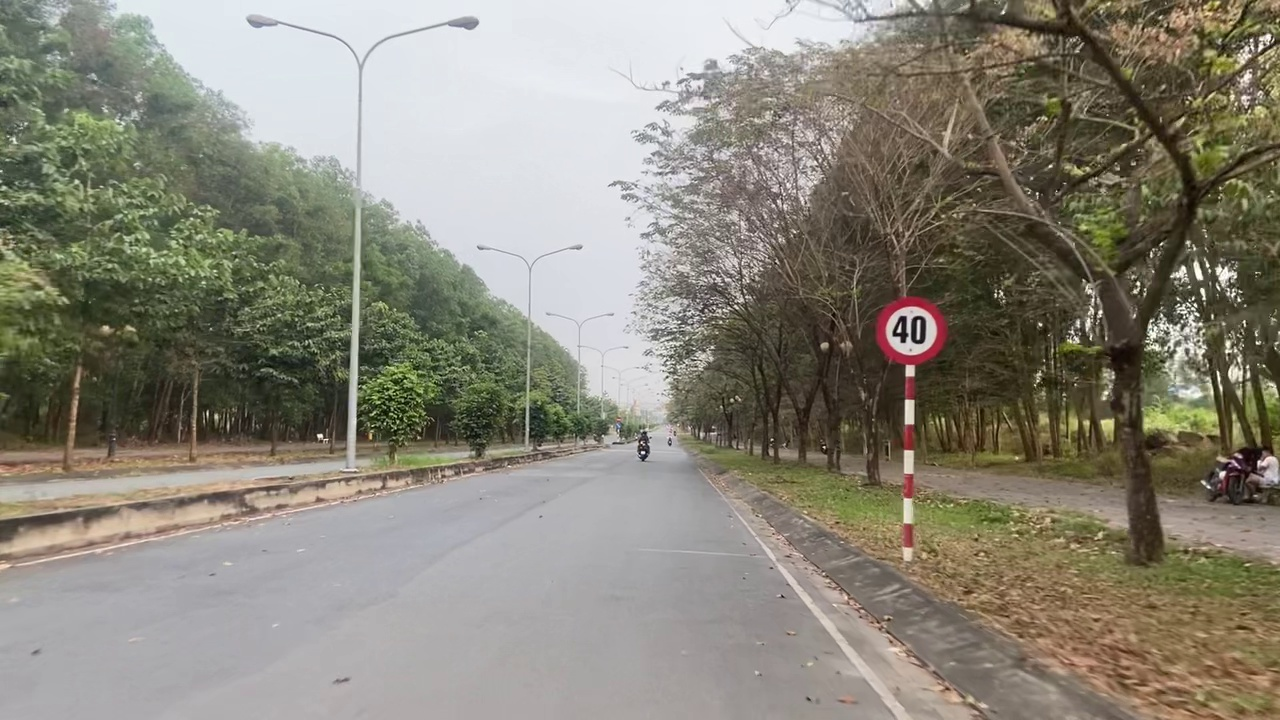gioi_han_40km: (873, 296, 948, 366)
